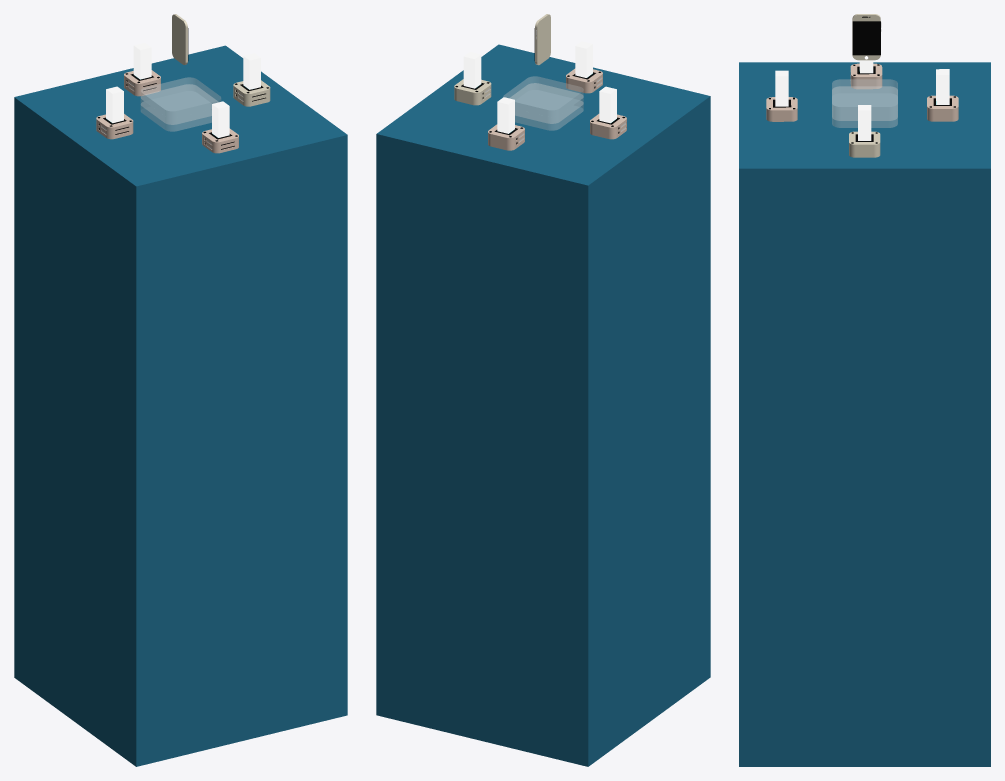
Rendered from pclub.glb.
The picture shows the model from 3 angles, left to right: view 1: azimuth 30°, elevation 25°; view 2: azimuth 150°, elevation 25°; view 3: azimuth 270°, elevation 25°; orthographic projection. The views are drawn at different scales.
Parts seen in each view (by area): view 1: Cube.043, Cube.042, Cube.041, Cube.040, Cube.003, Cube, Cube.020, Cube.021, Cube.012, Cube.038, Cube.011, Cube.029 (+1 smaller); view 2: Cube.043, Cube.042, Cube.041, Cube.040, Cube.003, Cube, Cube.020, Cube.021, Cube.011, Cube.038, Cube.012, Cube.030 (+1 smaller); view 3: Cube.043, Cube.042, Cube.041, Plane.001, Cube.040, Cube, Cube.020, Cube.021, Cube.038, Cube.030, Cube.011, Cube.012.
Part boxes in pixels (left/top/right/bottom): Cube.043: left=14, top=45, right=347, bottom=766; Cube.042: left=141, top=77, right=220, bottom=117; Cube.041: left=141, top=84, right=217, bottom=124; Cube.040: left=141, top=102, right=211, bottom=131; Cube.003: left=172, top=14, right=187, bottom=64; Cube: left=233, top=80, right=270, bottom=106; Cube.020: left=124, top=70, right=160, bottom=96; Cube.021: left=96, top=114, right=133, bottom=139; Cube.012: left=133, top=43, right=151, bottom=79; Cube.038: left=202, top=128, right=238, bottom=153; Cube.011: left=243, top=53, right=260, bottom=89; Cube.029: left=106, top=86, right=123, bottom=122; Cube.043: left=376, top=44, right=710, bottom=766; Cube.042: left=503, top=76, right=583, bottom=116; Cube.041: left=510, top=83, right=583, bottom=123; Cube.040: left=515, top=101, right=583, bottom=130; Cube.003: left=535, top=14, right=550, bottom=65; Cube: left=454, top=79, right=491, bottom=105; Cube.020: left=488, top=124, right=524, bottom=150; Cube.021: left=590, top=114, right=626, bottom=139; Cube.011: left=463, top=52, right=481, bottom=88; Cube.038: left=566, top=68, right=602, bottom=93; Cube.012: left=497, top=97, right=514, bottom=133; Cube.030: left=575, top=41, right=592, bottom=77; Cube.043: left=739, top=62, right=990, bottom=766; Cube.042: left=832, top=79, right=897, bottom=113; Cube.041: left=832, top=86, right=897, bottom=120; Plane.001: left=852, top=21, right=880, bottom=55; Cube.040: left=832, top=111, right=897, bottom=127; Cube: left=849, top=131, right=880, bottom=157; Cube.020: left=927, top=95, right=958, bottom=121; Cube.021: left=850, top=63, right=882, bottom=88; Cube.038: left=766, top=97, right=797, bottom=121; Cube.030: left=775, top=70, right=788, bottom=106; Cube.011: left=858, top=105, right=871, bottom=140; Cube.012: left=936, top=69, right=949, bottom=104.
Size of the model in its own units: 35.26 by 108 by 35.26.
